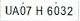character: (4, 4, 12, 15), (35, 4, 42, 15), (46, 4, 53, 15), (12, 5, 19, 15), (53, 5, 60, 15), (19, 4, 25, 15), (25, 4, 31, 15), (60, 4, 66, 15), (67, 5, 73, 16)
